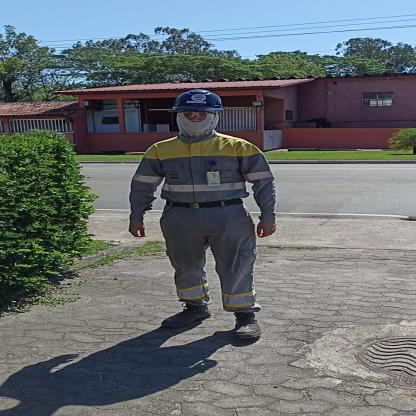Balaclava: (176, 109, 218, 138)
Capacete: (175, 89, 221, 110)
